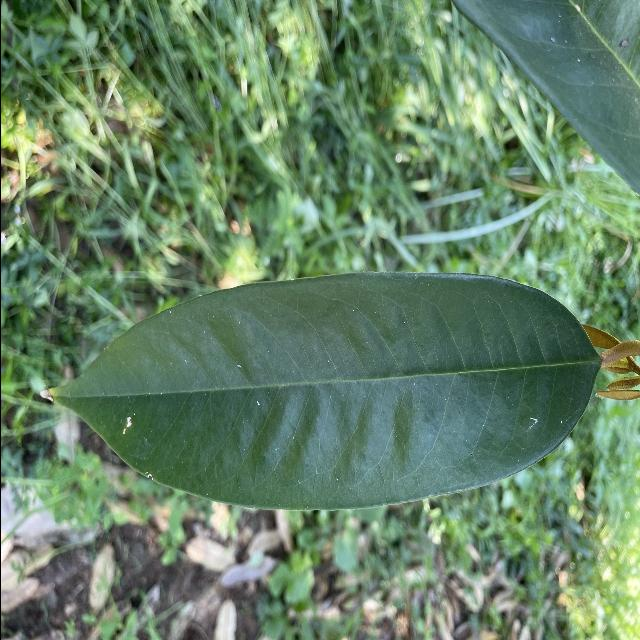No Disease: (32, 263, 611, 523)
